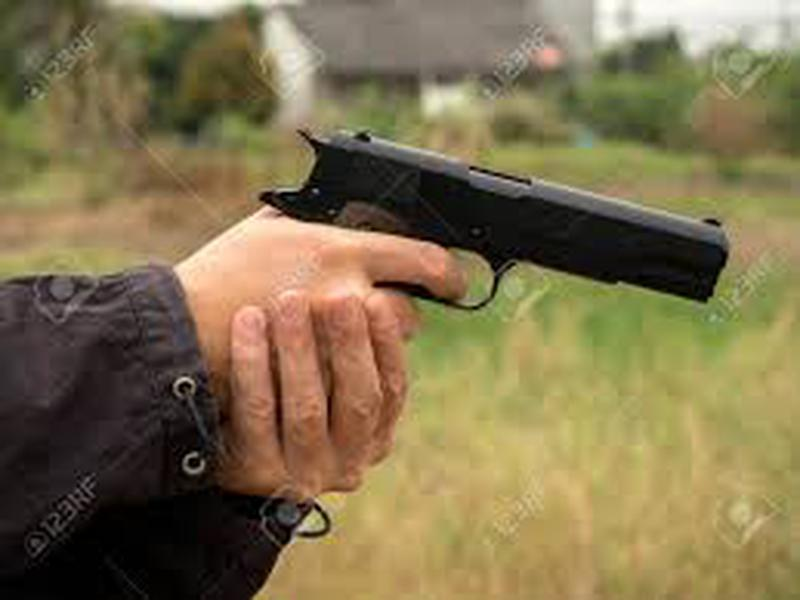gun: (165, 117, 742, 508)
